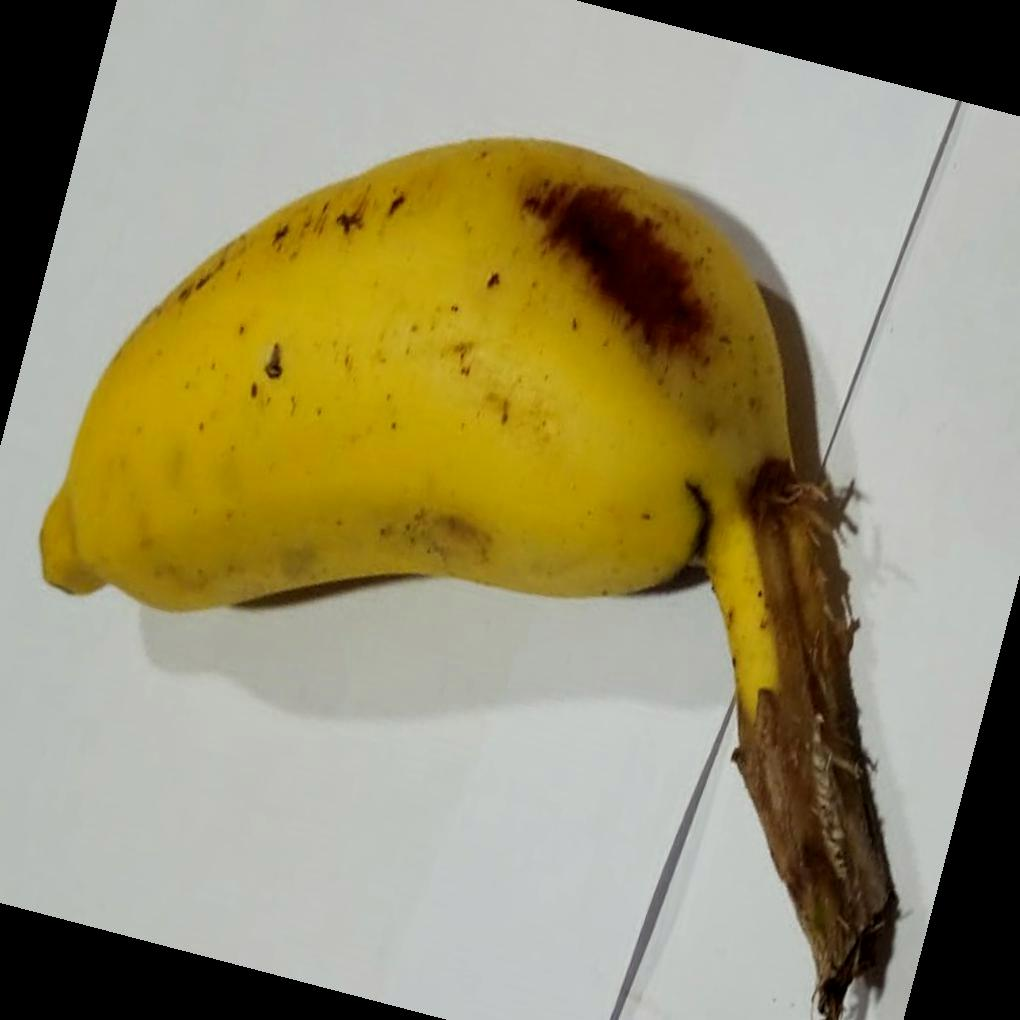Banana Ripe: (10, 104, 1020, 959)
